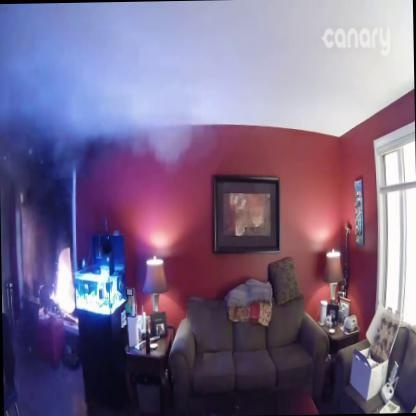smoke: (1, 3, 195, 172)
